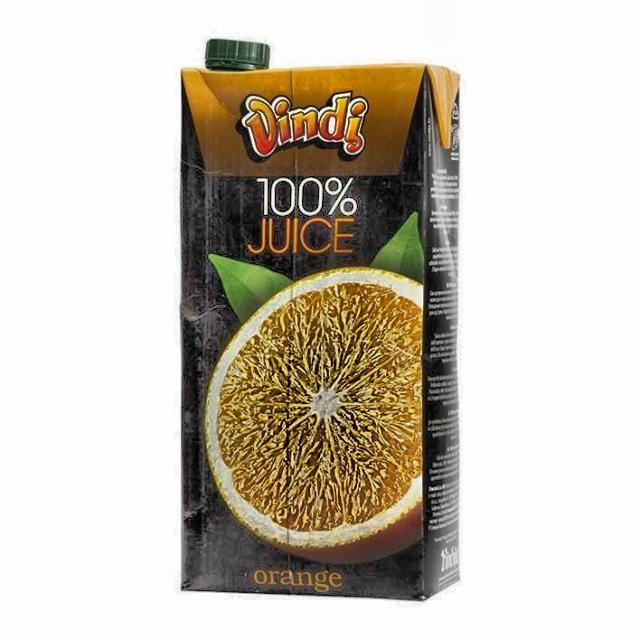cardboard: (178, 52, 461, 600)
